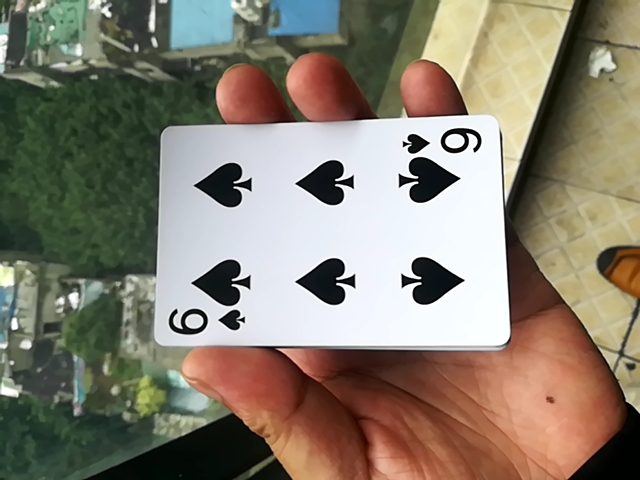ht 6: (132, 118, 513, 349)
